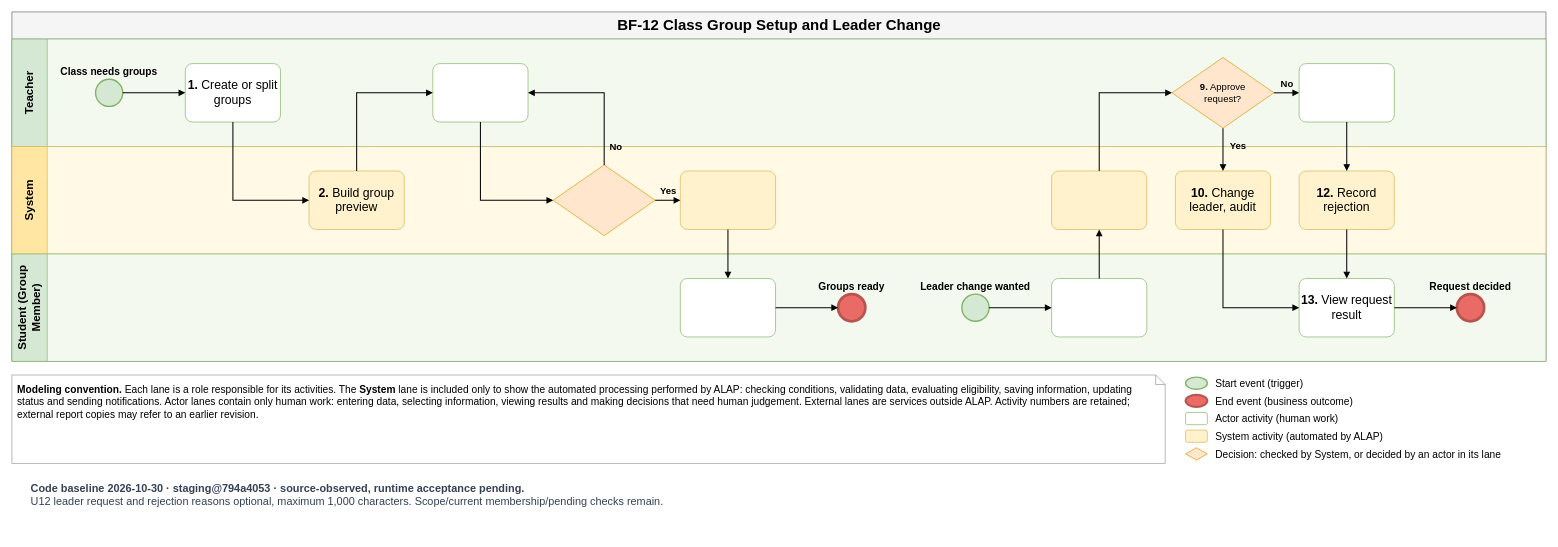
Image size: 1558x547. Some labels were removed from this diagram. The shapes that lost their labels are listed below. From the top down, each one's box as (x1, y1, x2, y2) in pixels, then its label:
(432, 63, 528, 122): 3. Adjust and save groups
(1298, 63, 1394, 122): 11. Reject request Reason optional
(552, 164, 655, 236): 4. Groups valid?
(680, 170, 776, 230): 5. Save groups, audit
(1051, 170, 1147, 230): 8. Save pending request
(680, 278, 776, 337): 6. View my group
(1051, 278, 1147, 337): 7. Request change Reason optional
